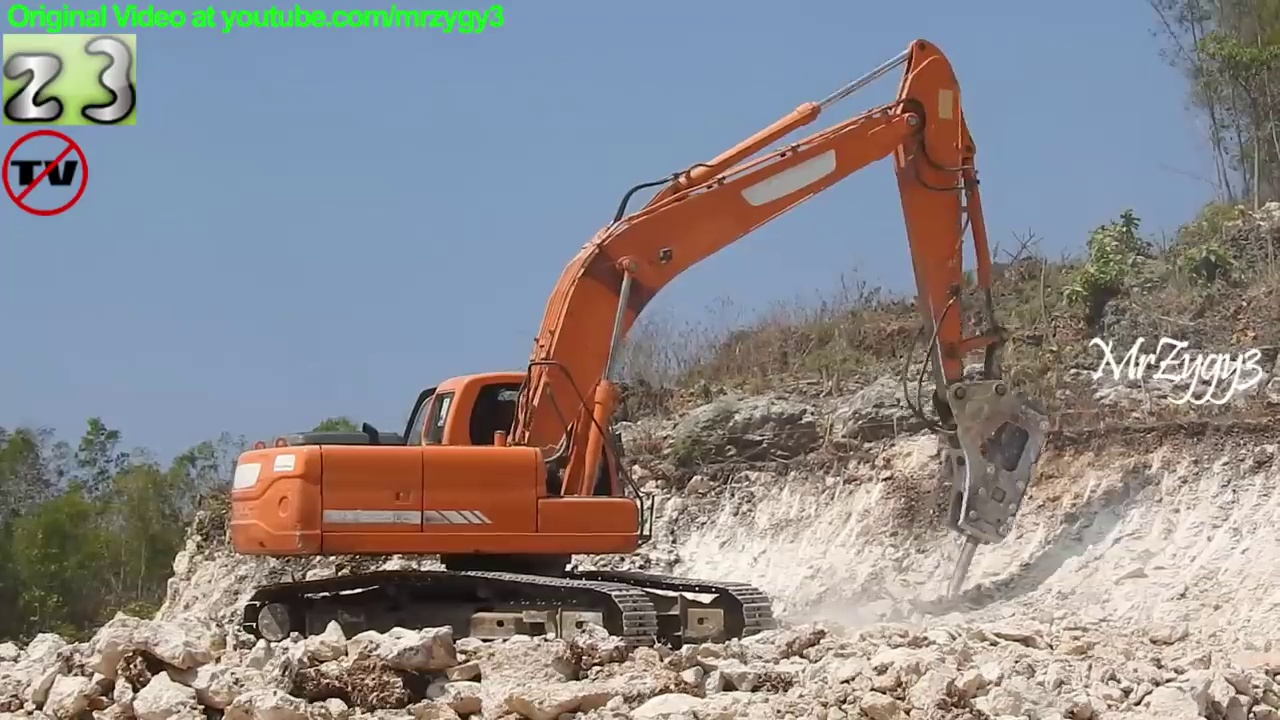excavator breaker: (219, 37, 1057, 658)
